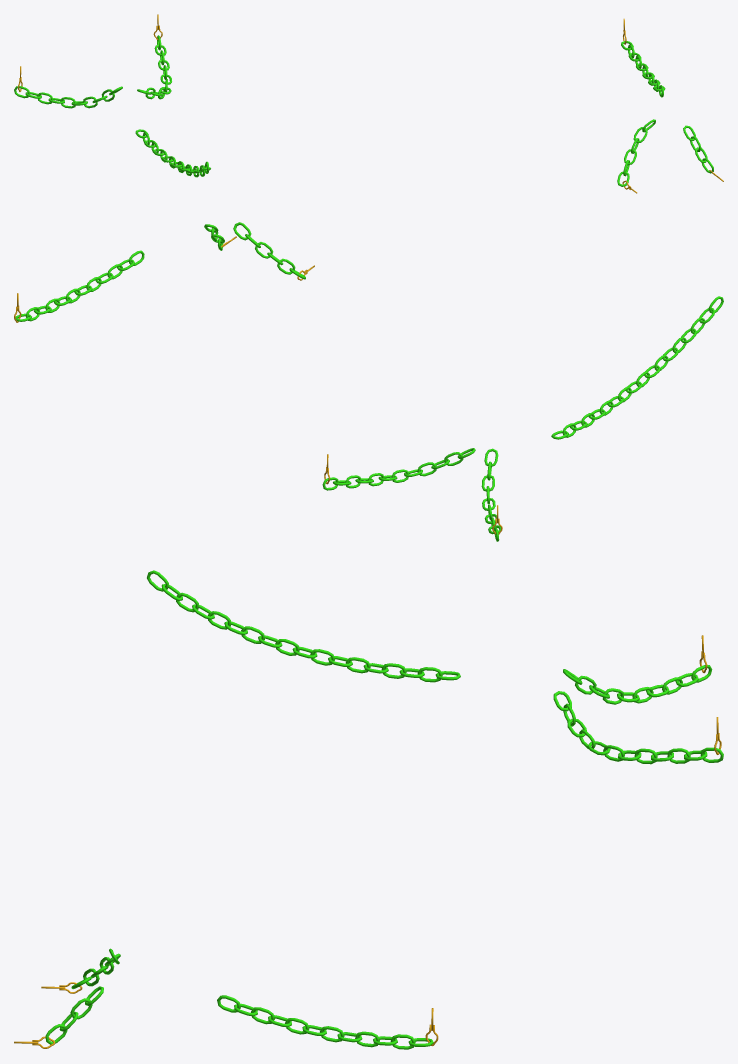
File: Corner Rig Chains.fbx
3 views of the same model, one above another, from view 1: azimuth 30°, elevation 25°; view 2: azimuth 150°, elevation 25°; view 3: azimuth 270°, elevation 25° (orthographic). The views are drawn at different scales.
Parts seen in each view (by area): view 1: Chain Links.007, Chain Links.005, Chain Links.004, Chain Links.002, Chain Links.001, Chain Links.003; view 2: Chain Links.007, Chain Links.004, Chain Links.002, Chain Links.005, Chain Links.001; view 3: Chain Links.007, Chain Links.002, Chain Links.004, Chain Links.005.
Boxes of the visible parts, box(x1,y1,x2,y2) form: Chain Links.007: box(135, 129, 210, 177); Chain Links.005: box(14, 86, 122, 108); Chain Links.004: box(137, 35, 171, 99); Chain Links.002: box(621, 41, 665, 97); Chain Links.001: box(617, 119, 655, 186); Chain Links.003: box(683, 125, 713, 173); Chain Links.007: box(551, 296, 723, 439); Chain Links.004: box(322, 448, 475, 490); Chain Links.002: box(15, 250, 144, 321); Chain Links.005: box(481, 448, 500, 541); Chain Links.001: box(233, 222, 305, 279); Chain Links.007: box(147, 570, 460, 682); Chain Links.002: box(217, 995, 433, 1049); Chain Links.004: box(553, 691, 723, 764); Chain Links.005: box(563, 665, 712, 704).
Bounding box in the file's own units: 192 × 35.92 × 157.
